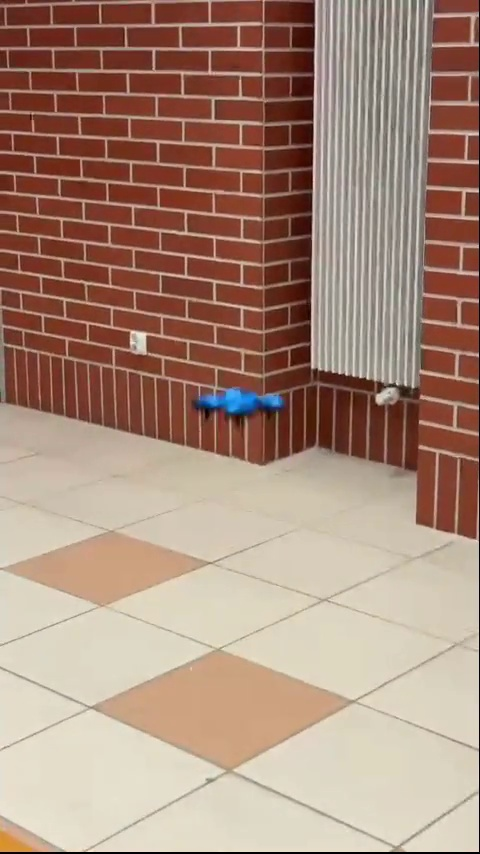drone: (192, 390, 286, 428)
